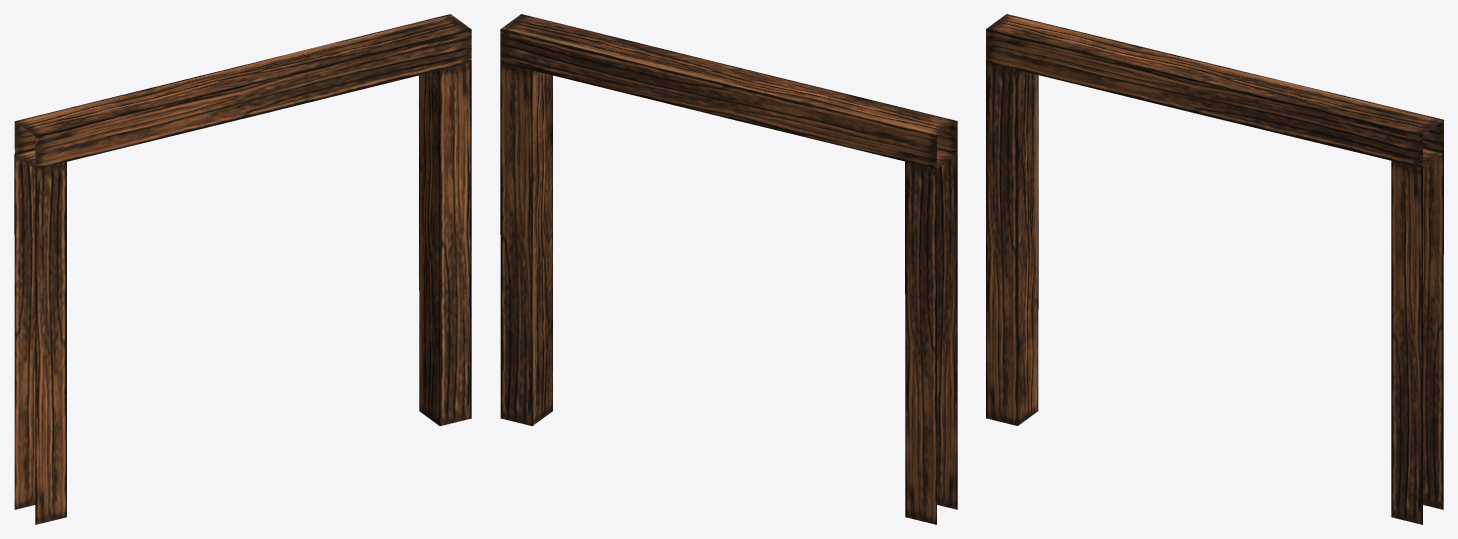
The model's file is LAKETOWN_WAREHOUSE2_PS_WH2_PUB_DOORARCH_373756.fbx.
3 views of the same model, side by side, from view 1: azimuth 30°, elevation 25°; view 2: azimuth 150°, elevation 25°; view 3: azimuth 330°, elevation 25° (orthographic).
Parts seen in each view (by area): view 1: LAKETOWN_WAREHOUSE2_PS_WH2_PUB_DOORARCH_373756; view 2: LAKETOWN_WAREHOUSE2_PS_WH2_PUB_DOORARCH_373756; view 3: LAKETOWN_WAREHOUSE2_PS_WH2_PUB_DOORARCH_373756.
Part boxes in pixels (<box>): LAKETOWN_WAREHOUSE2_PS_WH2_PUB_DOORARCH_373756: <box>14,14,471,524</box>; LAKETOWN_WAREHOUSE2_PS_WH2_PUB_DOORARCH_373756: <box>500,14,957,524</box>; LAKETOWN_WAREHOUSE2_PS_WH2_PUB_DOORARCH_373756: <box>986,14,1443,524</box>.
Bounding box in the file's own units: 23858 × 20342 × 1990.
Materials: 1 (1 with a texture image).
